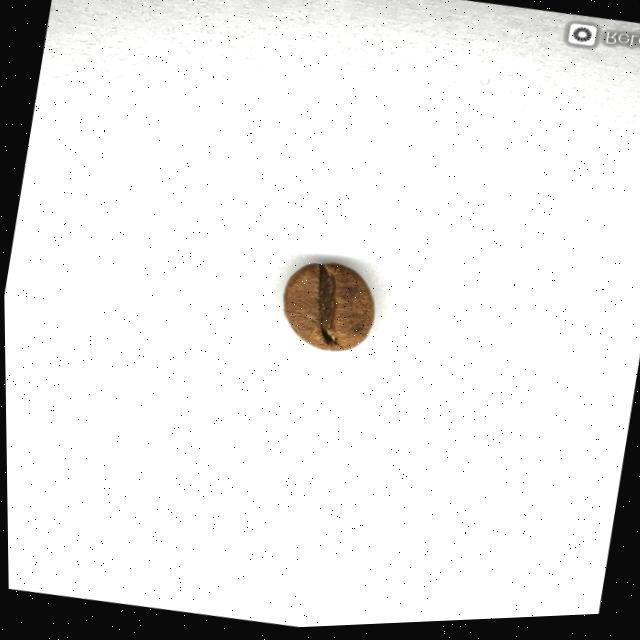Good bean: (273, 259, 381, 360)
